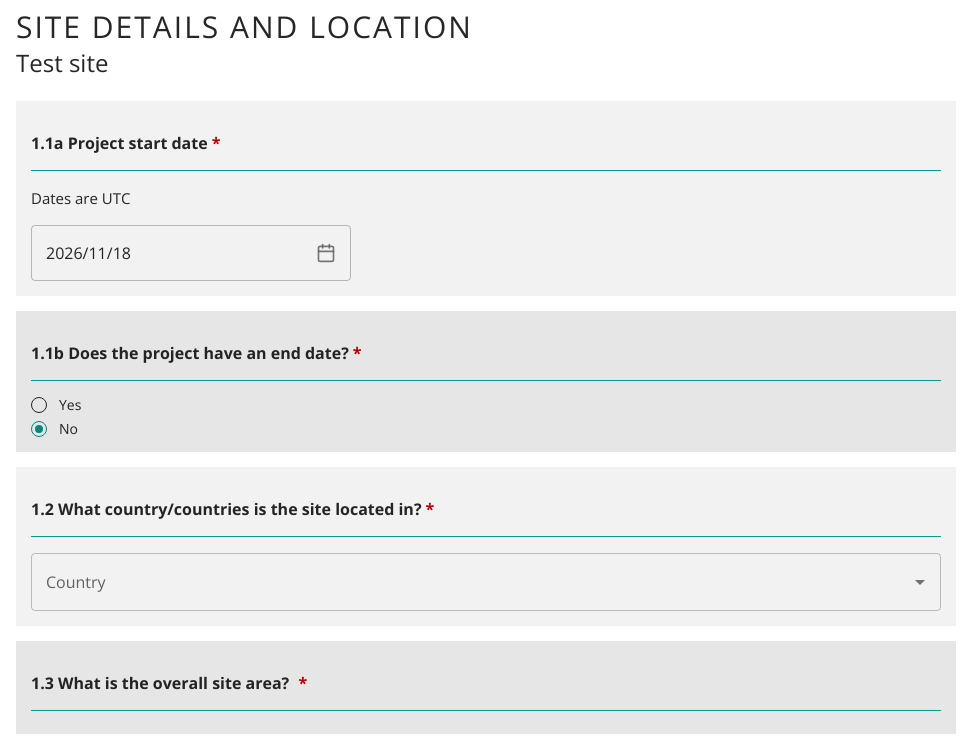
Test: section forms › ProjectDetailsForm › stores the picked countries as their GeoJSON features
The width and height of the screenshot is (973, 751).
Type "Indones" into the dropdown labelled "1.2 What country/countries is the site located in? *" at point(470, 582), box [41,562,900,600]
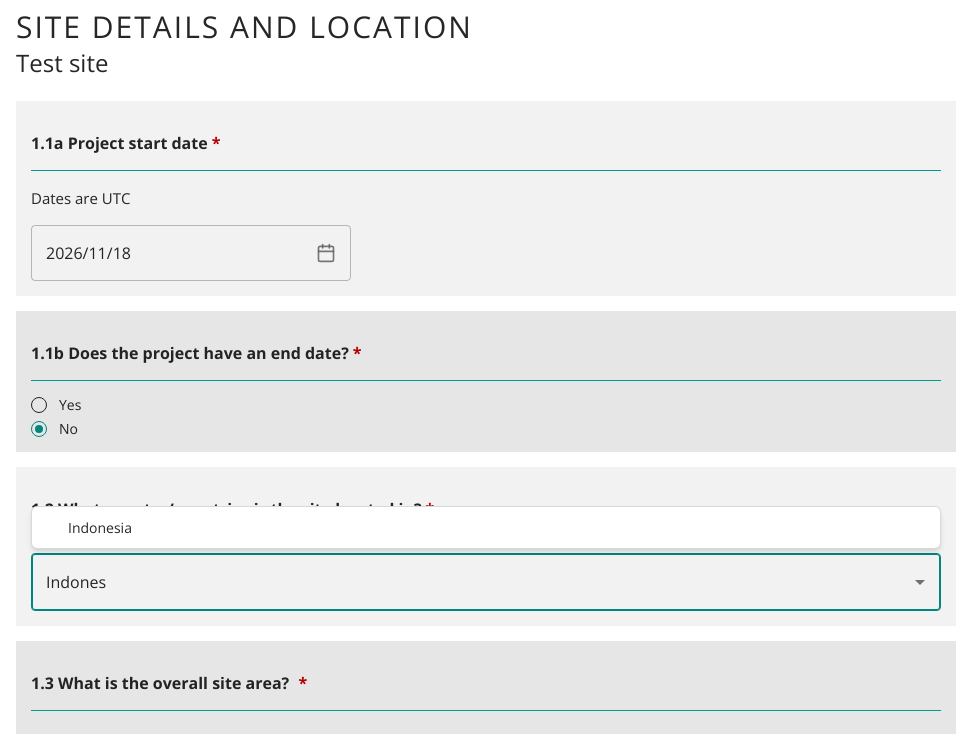
Click the option "Indonesia" at point(100, 528), box [68,518,132,537]
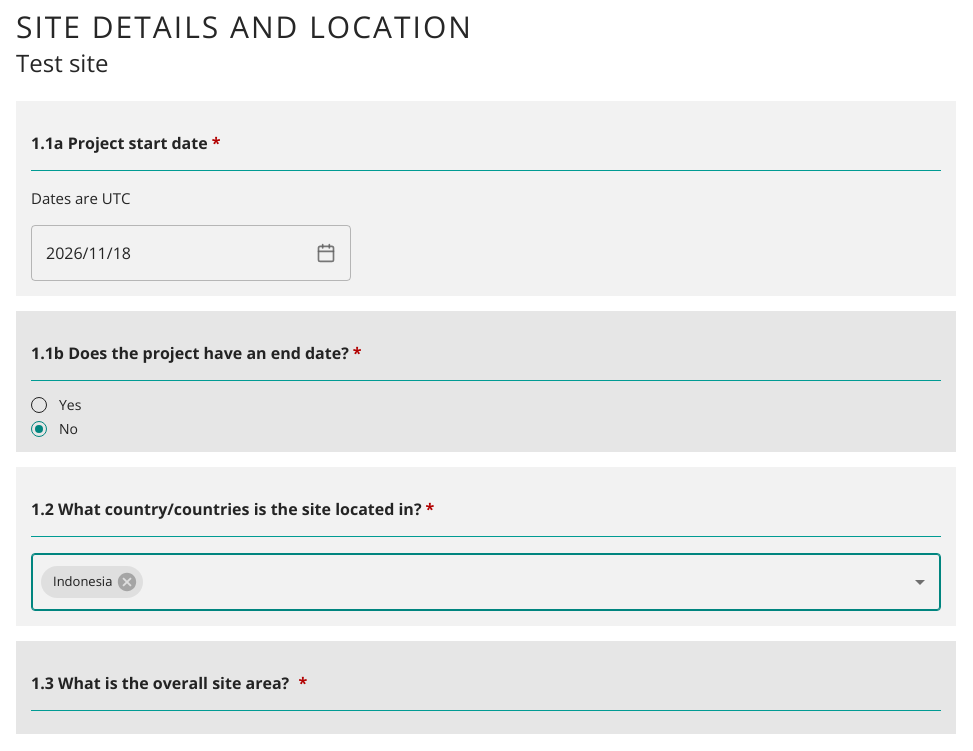
Expected: the button named "Remove Indonesia" is shown, [116,570,138,592]
